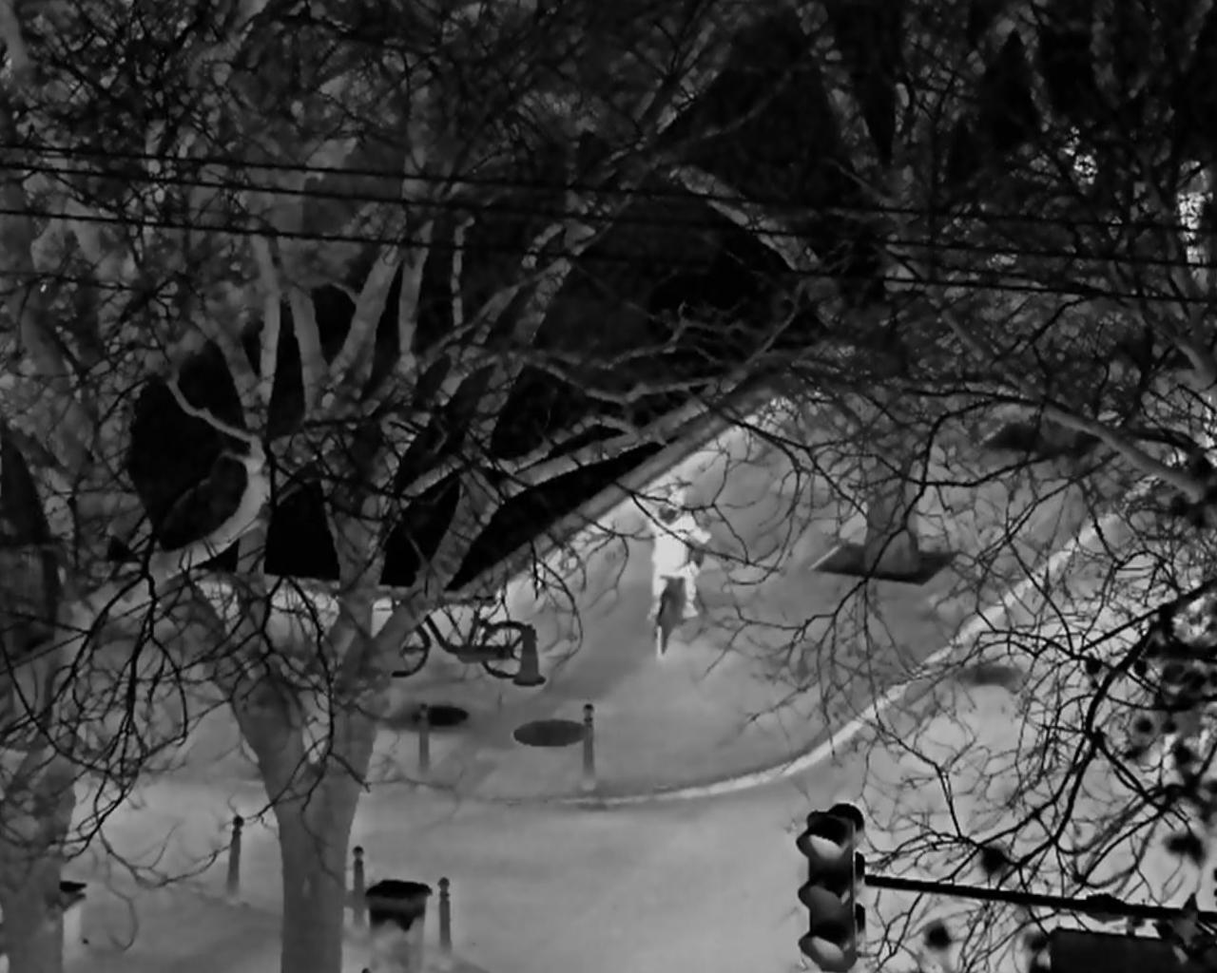person: (647, 484, 712, 620)
